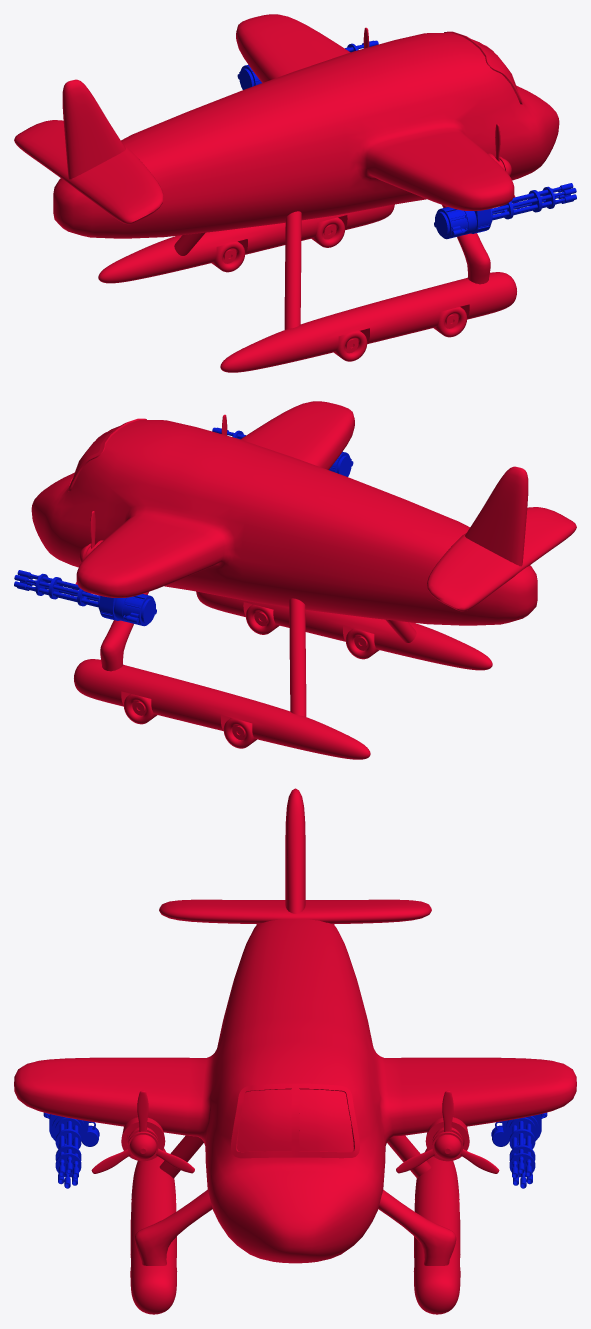
Rendered from Avion_minigun.fbx.
3 renders of one model, top to bottom at view 1: azimuth 30°, elevation 25°; view 2: azimuth 150°, elevation 25°; view 3: azimuth 270°, elevation 25°, orthographic. The views are drawn at different scales.
Parts seen in each view (by area): view 1: Cube.002, Plane, Cylinder.008, Roue_04, Roue_02, Roue_03, Roue_01, Helice_01.001; view 2: Cube.002, Plane, Cylinder.001, Roue_02, Roue_04, Roue_01, Roue_03, Vitre_Contour, Helice_01.001; view 3: Cube.002, Vitre, Helice_01.001, Vitre_Contour, Cylinder.001, Cylinder.008, Plane.
Part boxes in pixels (bbox=[...]): Cube.002: bbox=[14, 14, 559, 372]; Plane: bbox=[237, 64, 491, 239]; Cylinder.008: bbox=[490, 183, 576, 223]; Roue_04: bbox=[334, 331, 367, 361]; Roue_02: bbox=[211, 241, 245, 272]; Roue_03: bbox=[433, 307, 467, 337]; Roue_01: bbox=[311, 217, 344, 247]; Helice_01.001: bbox=[363, 27, 519, 208]; Cube.002: bbox=[31, 401, 576, 759]; Plane: bbox=[99, 451, 353, 626]; Cylinder.001: bbox=[14, 570, 100, 610]; Roue_02: bbox=[223, 718, 256, 748]; Roue_04: bbox=[345, 628, 379, 659]; Roue_01: bbox=[123, 694, 157, 724]; Roue_03: bbox=[246, 604, 279, 634]; Vitre_Contour: bbox=[68, 418, 146, 491]; Helice_01.001: bbox=[71, 414, 227, 595]; Cube.002: bbox=[14, 788, 576, 1314]; Vitre: bbox=[237, 1089, 353, 1151]; Helice_01.001: bbox=[91, 1090, 499, 1173]; Vitre_Contour: bbox=[231, 1083, 359, 1158]; Cylinder.001: bbox=[506, 1116, 538, 1188]; Cylinder.008: bbox=[52, 1116, 84, 1188]; Plane: bbox=[43, 1112, 547, 1146].
Bounding box in the file's own units: 514 × 607 × 329.
